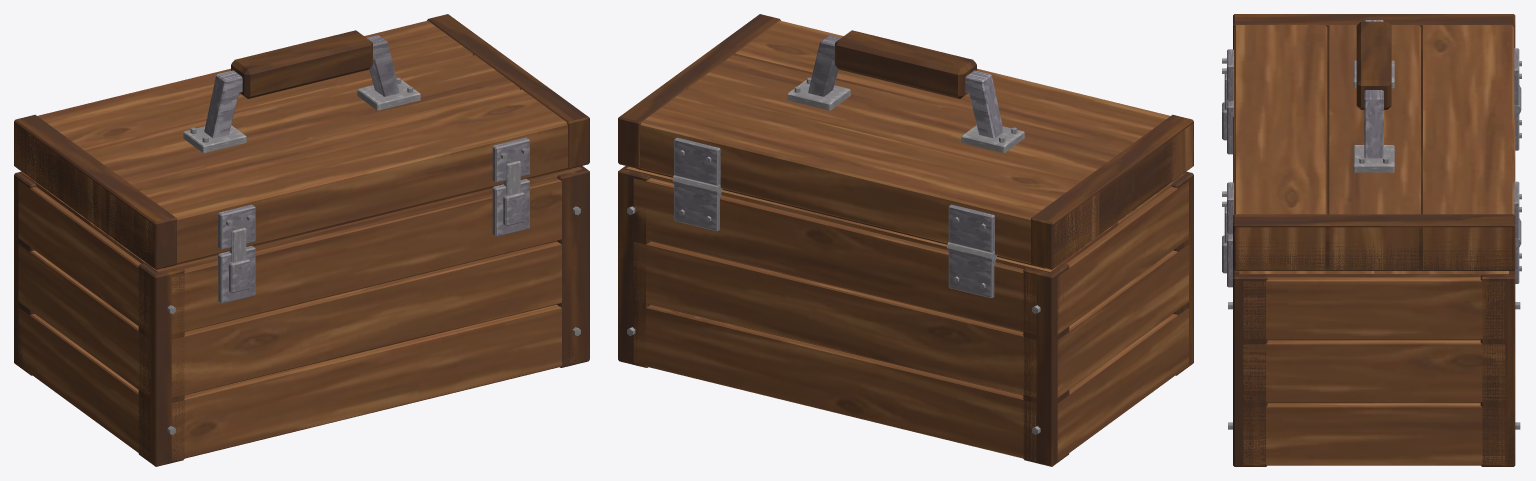
The model's file is rejected.glb.
3 renders of one model, left to right at view 1: azimuth 30°, elevation 25°; view 2: azimuth 150°, elevation 25°; view 3: azimuth 270°, elevation 25°, orthographic.
Visible parts, largest first — view 1: source; view 2: source; view 3: source.
Boxes of the visible parts, box(x1,y1,x2,y2) form: source: box(14, 14, 589, 466); source: box(618, 14, 1193, 466); source: box(1222, 14, 1521, 466).
Size of the model in its own units: 0.46 by 0.316 by 0.276.
2 materials, 2 textured.
